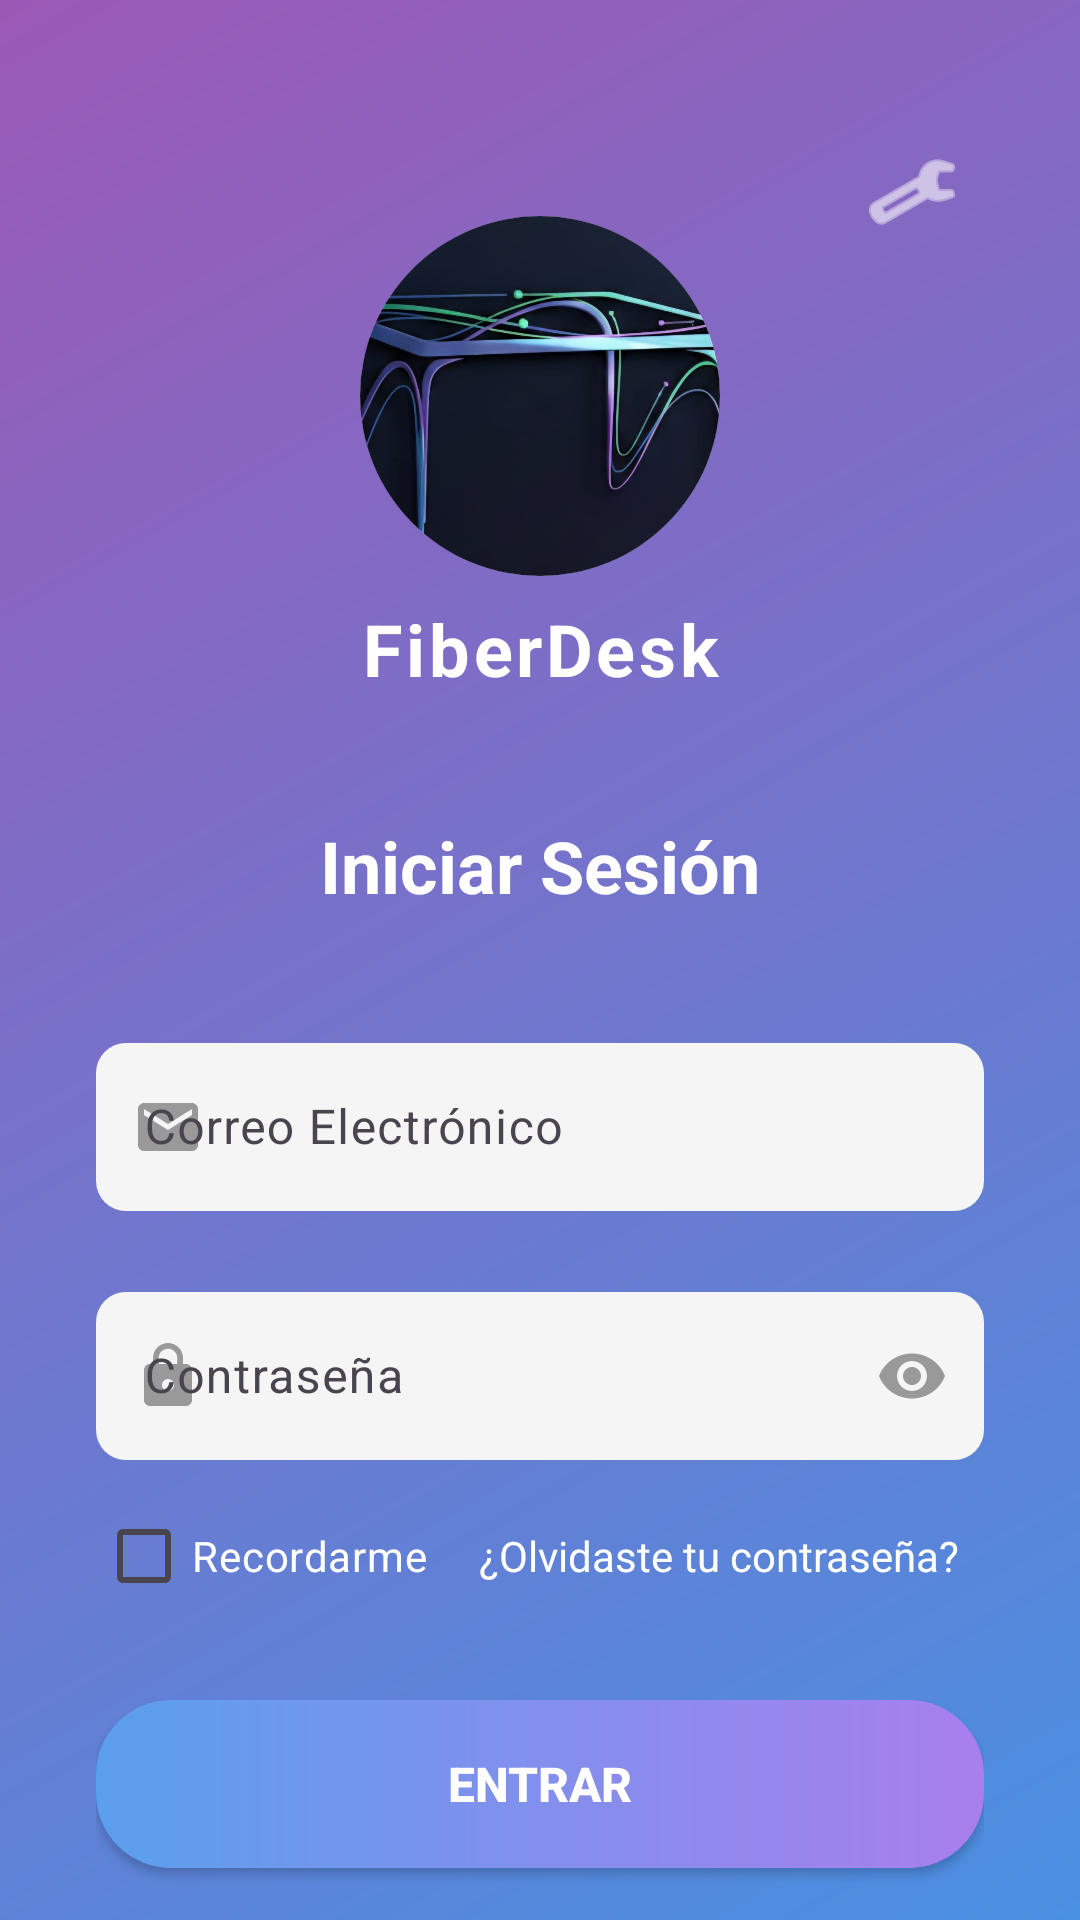

Point at icon controls on the screen. Image size 1080*1920, points as (x,y).
Configuración del Servidor: (912,192)
